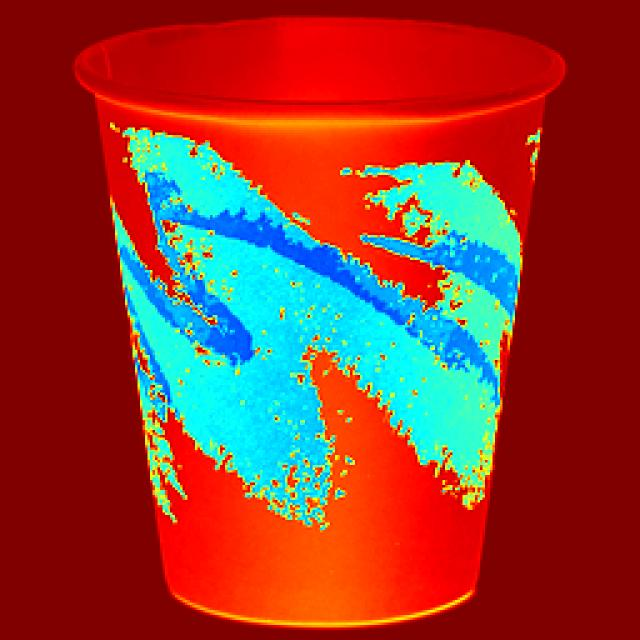Paper Cups: (68, 12, 549, 621)
